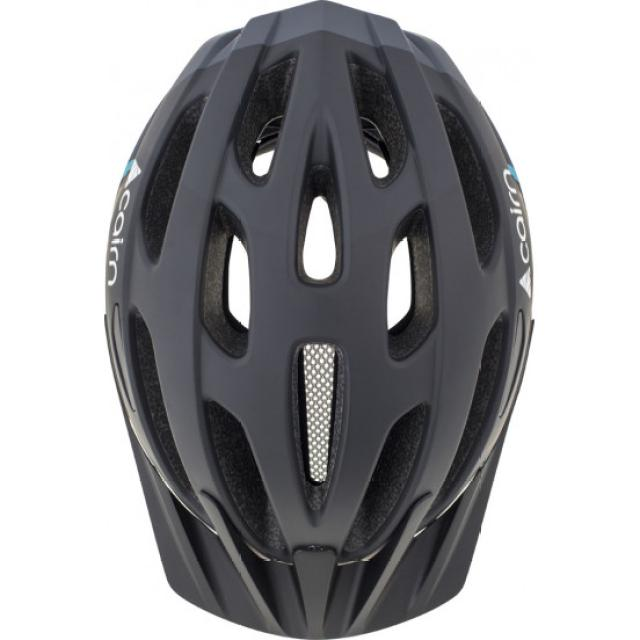illegal_helmet: (97, 0, 540, 640)
